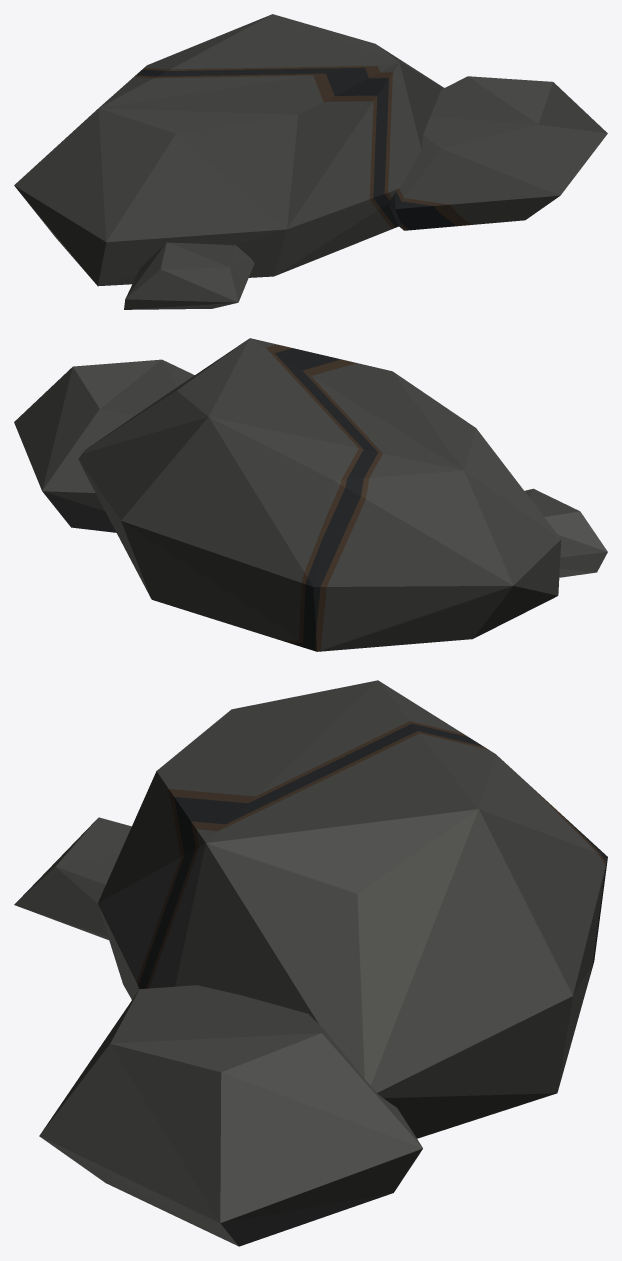
The model's file is ore_iron_v01_lod0.glb.
The picture shows the model from 3 angles, top to bottom: view 1: azimuth 30°, elevation 25°; view 2: azimuth 150°, elevation 25°; view 3: azimuth 270°, elevation 25°; orthographic projection. The views are drawn at different scales.
Parts seen in each view (by area): view 1: ore_iron_v01_lod0; view 2: ore_iron_v01_lod0; view 3: ore_iron_v01_lod0.
Boxes of the visible parts, box(x1,y1,x2,y2) form: ore_iron_v01_lod0: box(14, 14, 607, 309); ore_iron_v01_lod0: box(14, 338, 607, 651); ore_iron_v01_lod0: box(14, 680, 607, 1246).
Bounding box in the file's own units: 3.14 × 0.906 × 1.85.
